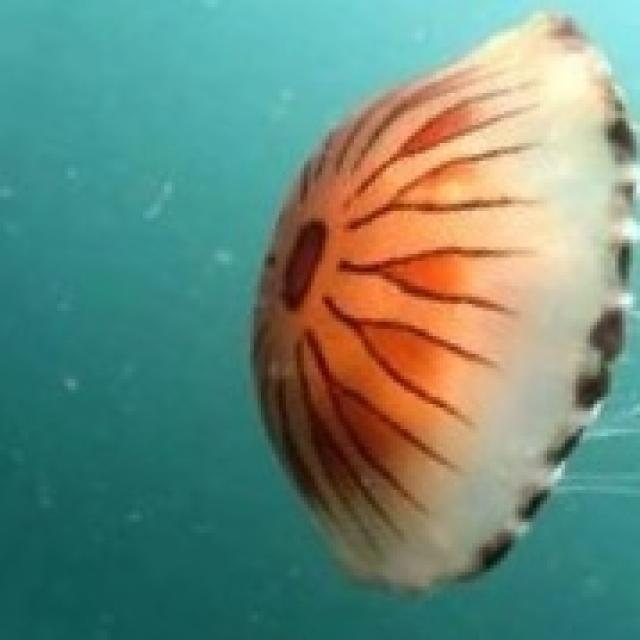Jellyfish: (247, 7, 636, 594)
